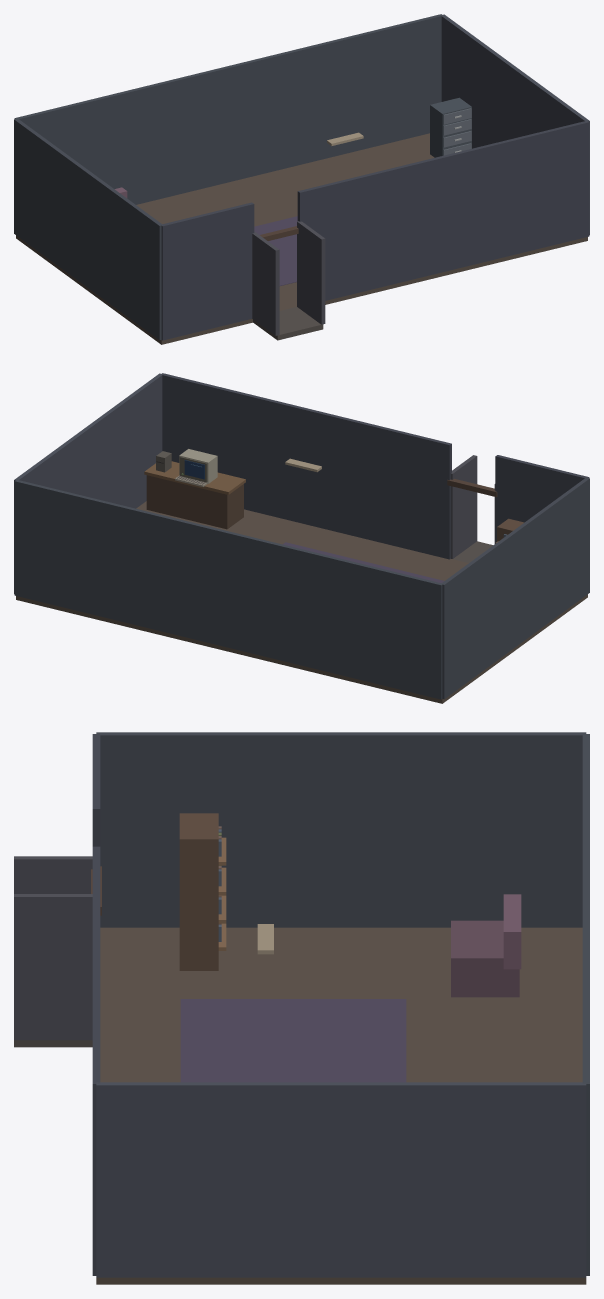
File: cuartoFondo.obj
3 renders of one model, top to bottom at view 1: azimuth 30°, elevation 25°; view 2: azimuth 150°, elevation 25°; view 3: azimuth 270°, elevation 25°, orthographic. The views are drawn at different scales.
Parts seen in each view (by area): view 1: cuartoFondo_original_11, cuartoFondo_original_15, cuartoFondo_original_12, cuartoFondo_original_9, cuartoFondo_original_14, cuartoFondo_original_13, cuartoFondo_original_17, cuartoFondo_original_decor_100, cuartoFondo_original_16, cuartoFondo_original_21, cuartoFondo_original_decor_000, cuartoFondo_original_10; view 2: cuartoFondo_original_11, cuartoFondo_original_15, cuartoFondo_original_12, cuartoFondo_original_13, cuartoFondo_original_9, cuartoFondo_original_14, cuartoFondo_original_18, cuartoFondo_original_decor_100, cuartoFondo_original_17, cuartoFondo_original_decor_000; view 3: cuartoFondo_original_13, cuartoFondo_original_12, cuartoFondo_original_9, cuartoFondo_original_decor_100, cuartoFondo_original_17, cuartoFondo_original_19, cuartoFondo_original_20, cuartoFondo_original_11, cuartoFondo_original_15, cuartoFondo_original_16, cuartoFondo_original_14.
Boxes of the visible parts, <box> form: cuartoFondo_original_11: <box>14,14,442,204</box>; cuartoFondo_original_15: <box>297,121,589,300</box>; cuartoFondo_original_12: <box>14,118,162,340</box>; cuartoFondo_original_9: <box>16,133,587,344</box>; cuartoFondo_original_14: <box>161,202,254,340</box>; cuartoFondo_original_13: <box>441,14,589,235</box>; cuartoFondo_original_17: <box>297,221,325,324</box>; cuartoFondo_original_decor_100: <box>115,108,471,285</box>; cuartoFondo_original_16: <box>252,232,279,335</box>; cuartoFondo_original_21: <box>430,97,471,157</box>; cuartoFondo_original_decor_000: <box>134,131,429,240</box>; cuartoFondo_original_10: <box>253,307,323,340</box>; cuartoFondo_original_11: <box>14,480,442,699</box>; cuartoFondo_original_15: <box>161,373,451,559</box>; cuartoFondo_original_12: <box>441,477,589,699</box>; cuartoFondo_original_13: <box>14,373,162,594</box>; cuartoFondo_original_9: <box>16,501,587,703</box>; cuartoFondo_original_14: <box>495,455,589,543</box>; cuartoFondo_original_18: <box>146,475,243,529</box>; cuartoFondo_original_decor_100: <box>144,449,506,582</box>; cuartoFondo_original_17: <box>450,455,477,558</box>; cuartoFondo_original_decor_000: <box>15,458,497,699</box>; cuartoFondo_original_13: <box>96,1082,586,1277</box>; cuartoFondo_original_12: <box>96,732,586,927</box>; cuartoFondo_original_9: <box>96,927,586,1284</box>; cuartoFondo_original_decor_100: <box>180,826,521,1082</box>; cuartoFondo_original_17: <box>14,894,92,1040</box>; cuartoFondo_original_19: <box>179,813,218,970</box>; cuartoFondo_original_20: <box>451,920,519,997</box>; cuartoFondo_original_11: <box>582,734,589,1275</box>; cuartoFondo_original_15: <box>92,846,100,1275</box>; cuartoFondo_original_16: <box>14,856,92,893</box>; cuartoFondo_original_14: <box>92,734,100,846</box>.
Bounding box in the file's own units: 24.82 × 6.58 × 17.11.
